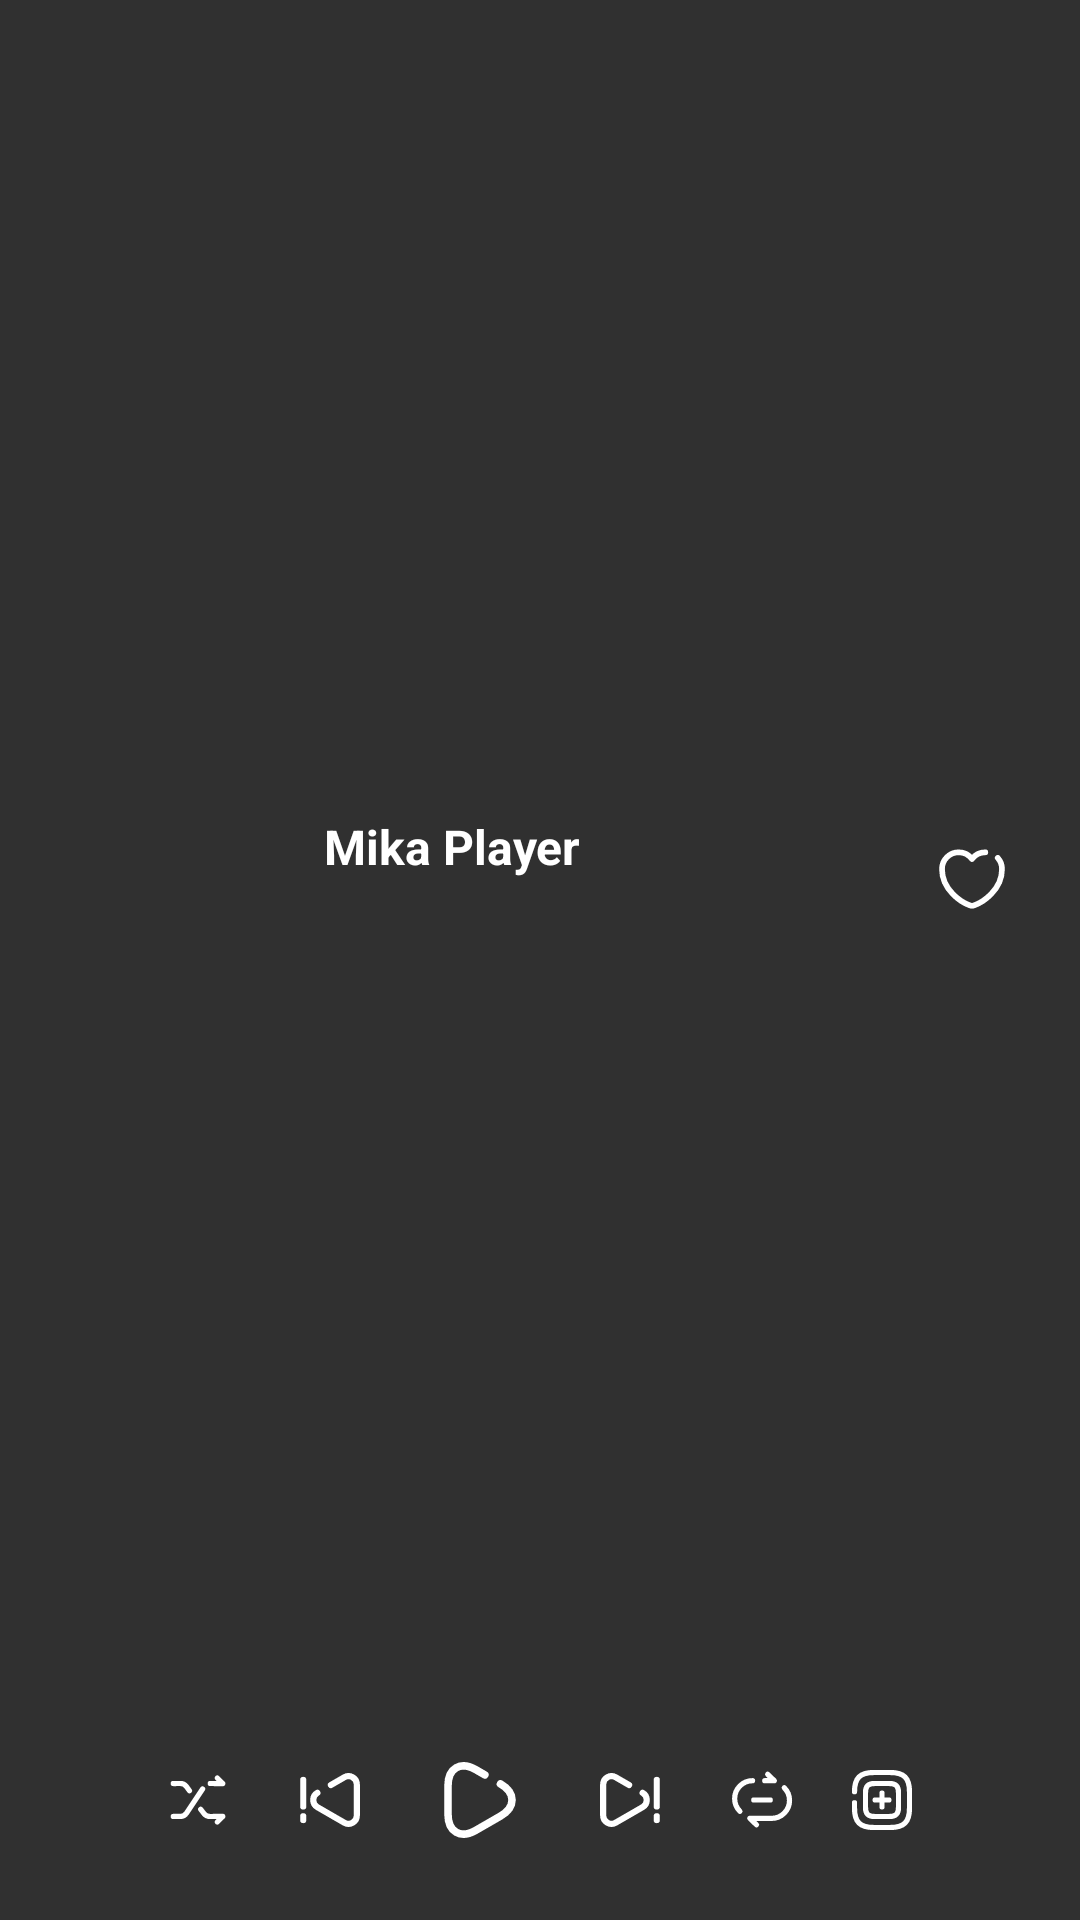

Where to tap for icons on this 1080 × 1920 app screen, as point (x, y):
Cycle repeat mode: point (762, 1799)
Next track: point (630, 1800)
Play or pause: point (480, 1800)
Previous track: point (330, 1800)
Toggle favorite: point (972, 879)
Toggle shuffle: point (198, 1800)
